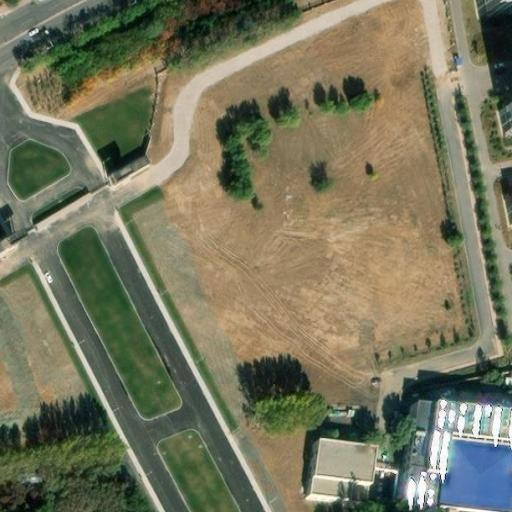building: (406, 393, 512, 512), (304, 456, 372, 507), (104, 148, 153, 185), (497, 98, 511, 134)
